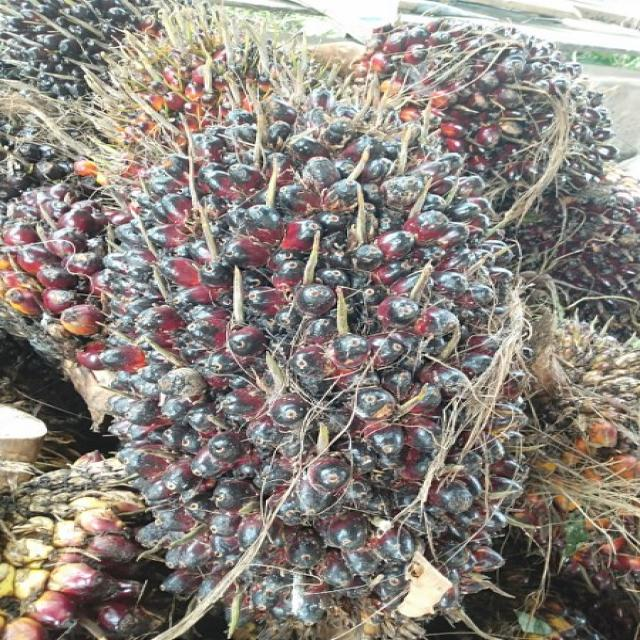fraksi 1: (85, 87, 539, 604)
